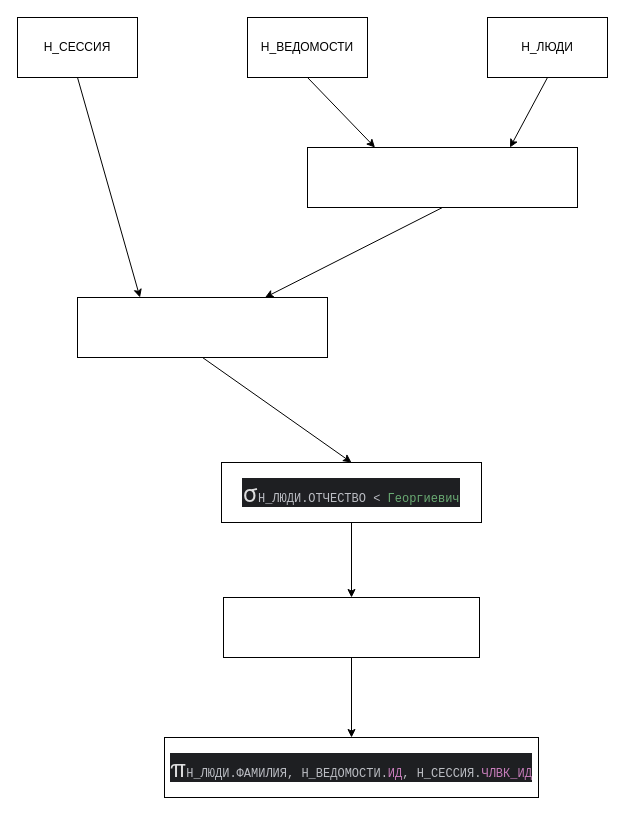
The diagram is 625 pixels wide and 815 high, and some of its shapes have lost their labels. The centre of each missing label's shape, as x and y in pixels:
"σ Н_ВЕДОМОСТИ.ИД = 1457443" goes at (x=351, y=627).
"⋈ Н_ЛЮДИ.ИД = Н_ВЕДОМОСТИ.ЧЛВК_ИД" goes at (x=442, y=177).
"⋈ Н_ЛЮДИ.ИД = Н_СЕССИЯ.ЧЛВК_ИД" goes at (x=202, y=327).
